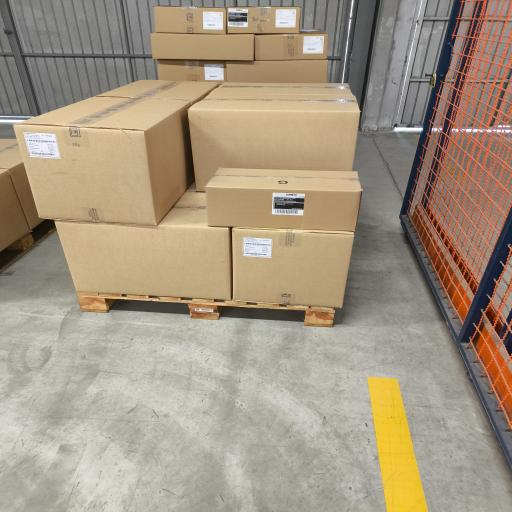pallet: (77, 293, 334, 326), (0, 220, 56, 272)
